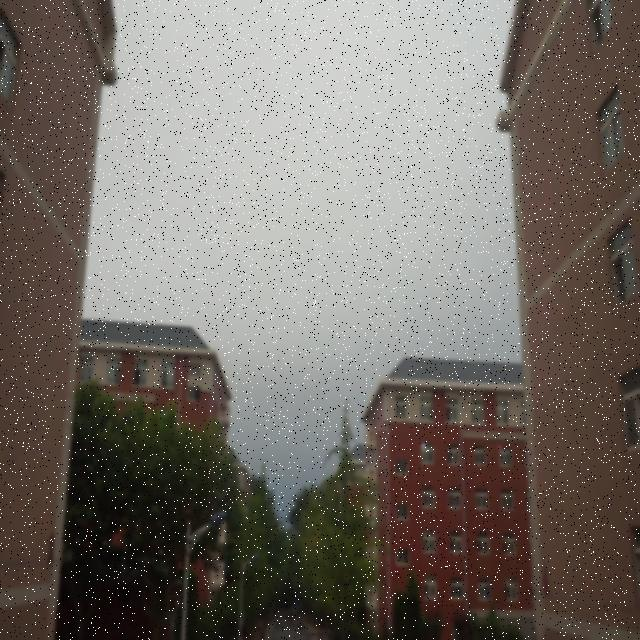UAV: (378, 428, 391, 437)
